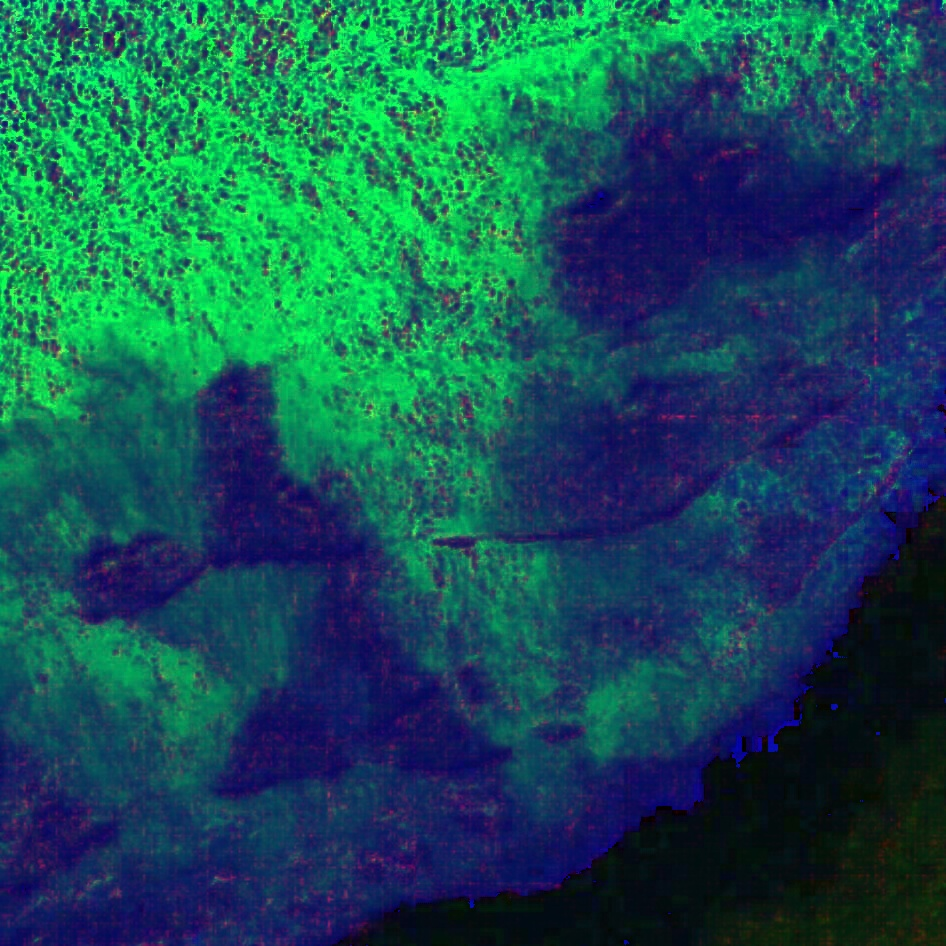rip_current: (214, 230, 634, 752)
